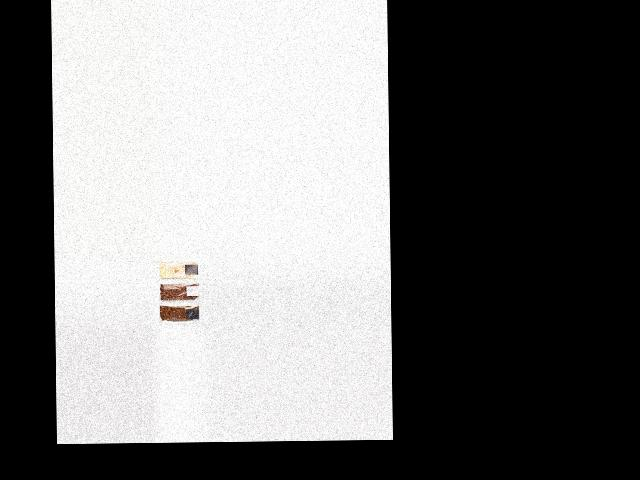chocolate: (155, 303, 198, 328)
